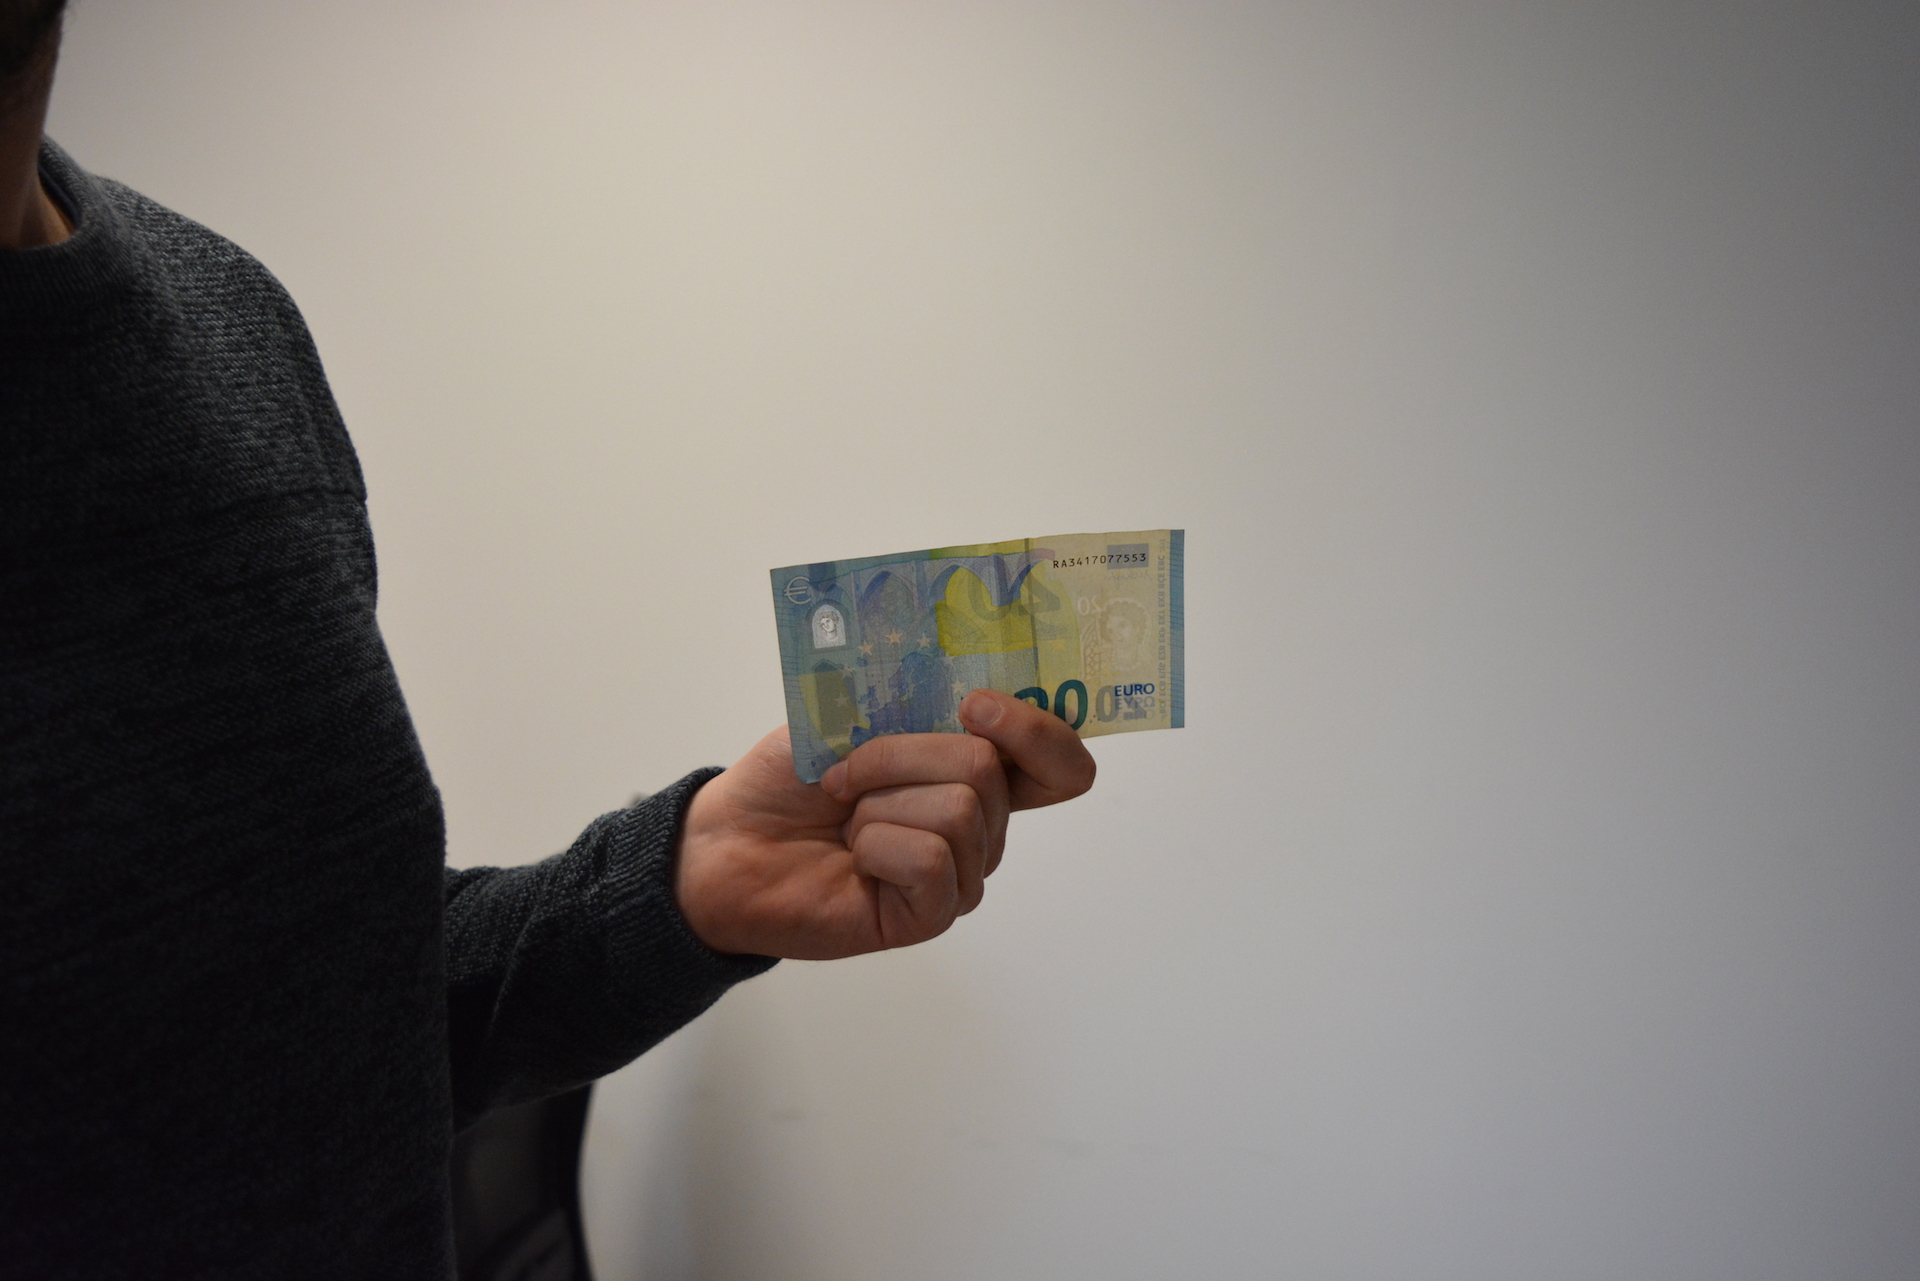billete: (768, 528, 1187, 785)
